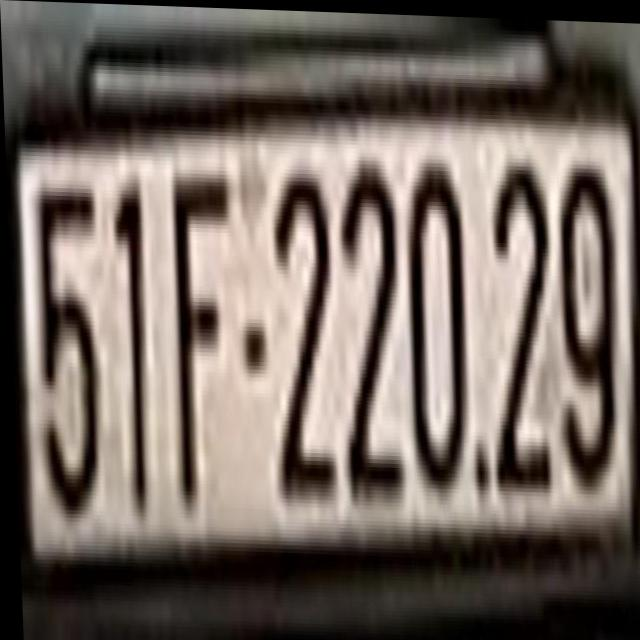0: (397, 135, 466, 486)
1: (108, 162, 150, 520)
2: (332, 157, 404, 512), (265, 167, 338, 513), (483, 141, 552, 485)
5: (34, 168, 103, 523)
9: (551, 159, 619, 499)
F: (165, 152, 239, 534)
